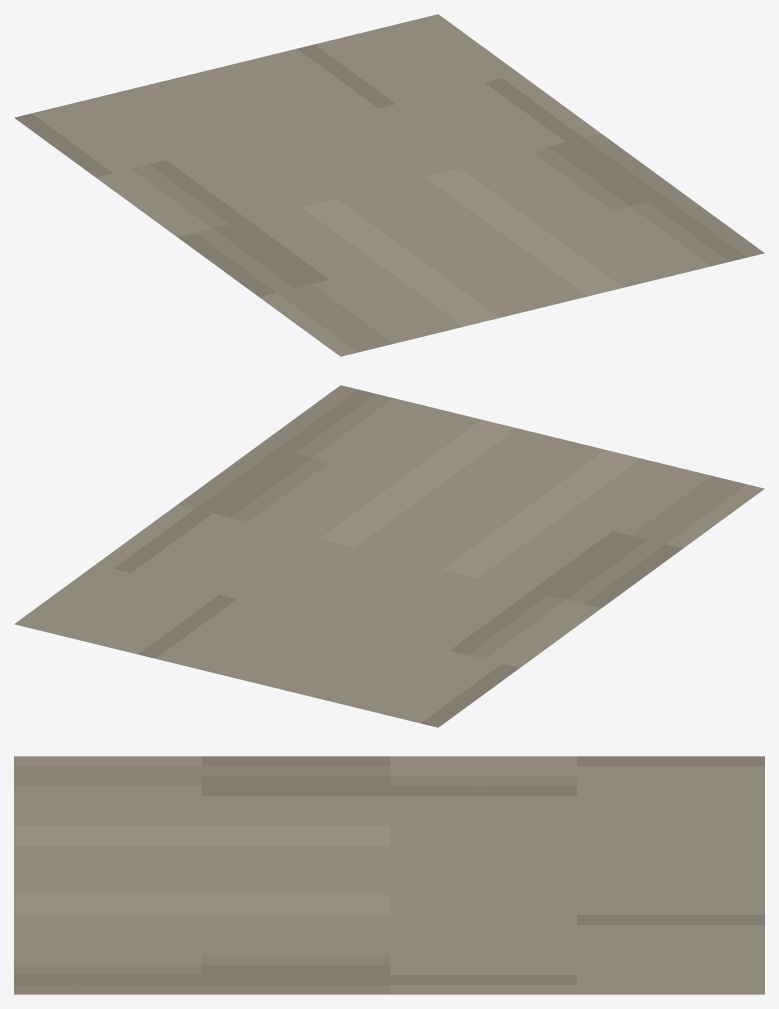
3 renders of one model, top to bottom at view 1: azimuth 30°, elevation 25°; view 2: azimuth 150°, elevation 25°; view 3: azimuth 270°, elevation 25°, orthographic. The views are drawn at different scales.
Bounding box in the file's own units: 0.75 × 0 × 1.
1 material, 1 textured.
